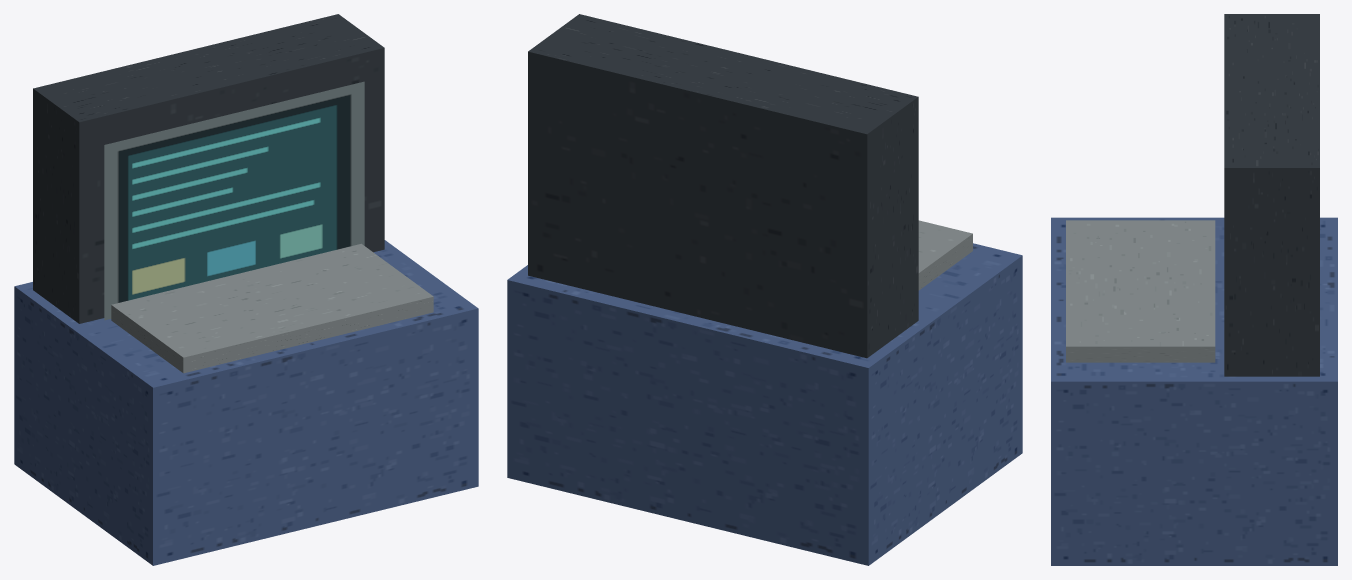
File: CounterTerminal.fbx
3 views of the same model, side by side, from view 1: azimuth 30°, elevation 25°; view 2: azimuth 150°, elevation 25°; view 3: azimuth 270°, elevation 25° (orthographic). The views are drawn at different scales.
Visible parts, largest first — view 1: CounterTerminal; view 2: CounterTerminal; view 3: CounterTerminal.
Part boxes in pixels (x1,y1,x2,y2): CounterTerminal: (14, 14, 478, 565); CounterTerminal: (507, 14, 1022, 565); CounterTerminal: (1051, 14, 1337, 565).
Bounding box in the file's own units: 65 × 72.5 × 48.
